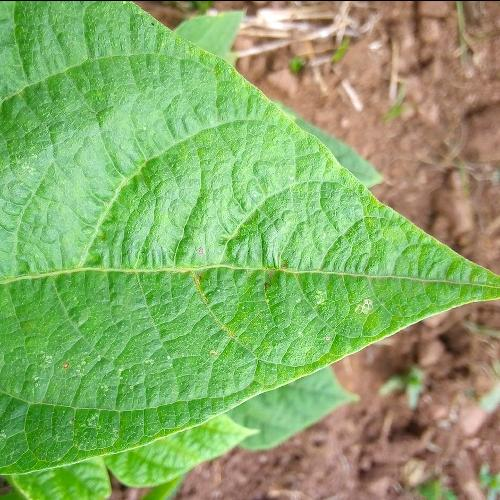embun tepung: (9, 312, 215, 444)
hawar: (260, 270, 392, 325)
